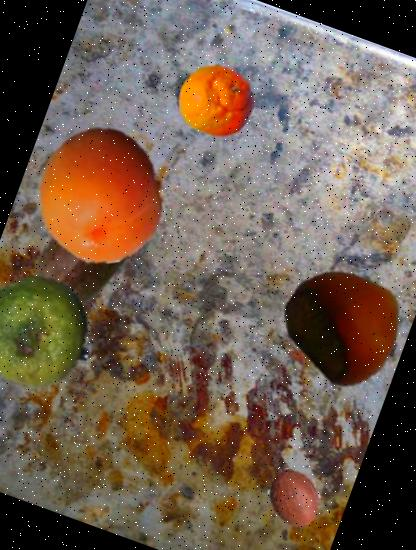Apricot: (12, 107, 189, 284)
Cocos: (255, 458, 334, 538)
Limes: (0, 258, 107, 403)
Mandarine: (167, 52, 264, 148)
Nut: (0, 159, 178, 350), (269, 245, 416, 398)
